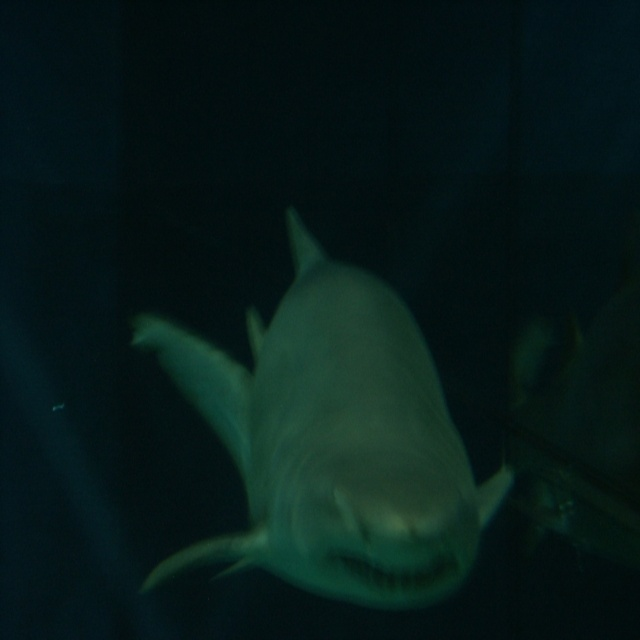Shark: (130, 211, 509, 613)
